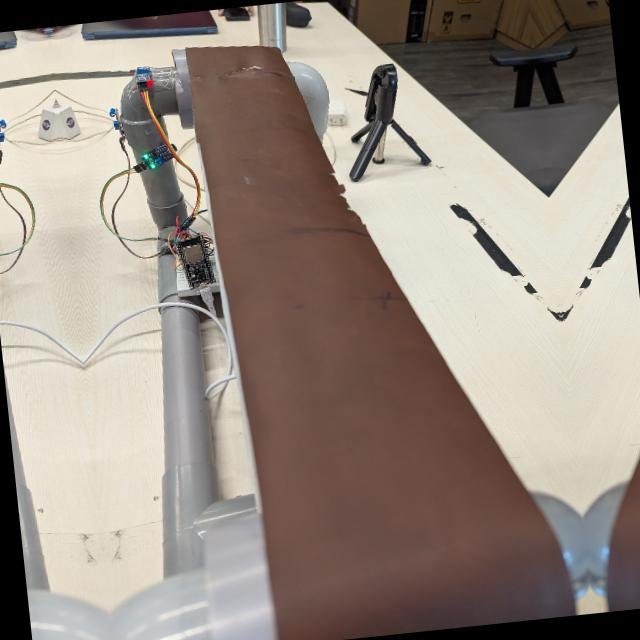edge_damage: (319, 160, 374, 247)
joint_damage: (234, 54, 277, 86)
